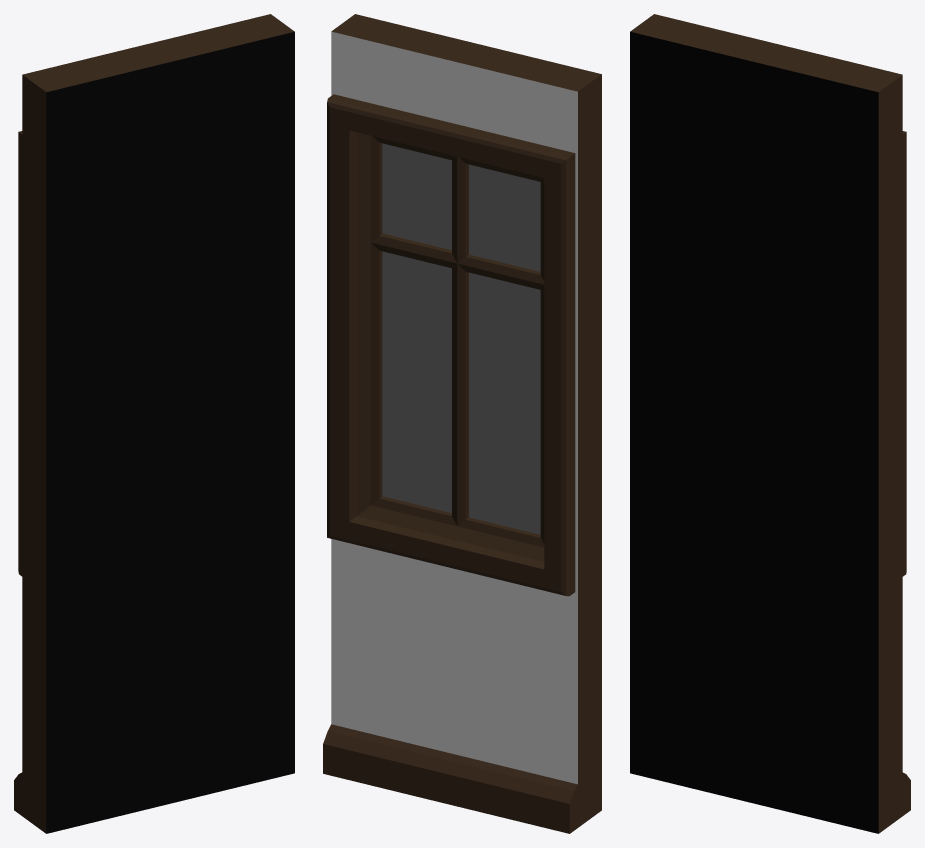
File: Wall_Window_2_Half_V2.fbx
3 views of the same model, side by side, from view 1: azimuth 30°, elevation 25°; view 2: azimuth 150°, elevation 25°; view 3: azimuth 330°, elevation 25° (orthographic).
Visible parts, largest first — view 1: Cube.175, Cube.181; view 2: Cube.181, Cube.175; view 3: Cube.175, Cube.181.
Part boxes in pixels (x1,y1,x2,y2): Cube.175: (14, 14, 294, 833); Cube.181: (18, 131, 22, 576); Cube.181: (327, 94, 575, 596); Cube.175: (323, 14, 601, 833); Cube.175: (630, 14, 910, 833); Cube.181: (902, 131, 906, 576).
Bounding box in the file's own units: 0.2306 × 1 × 2.85.
